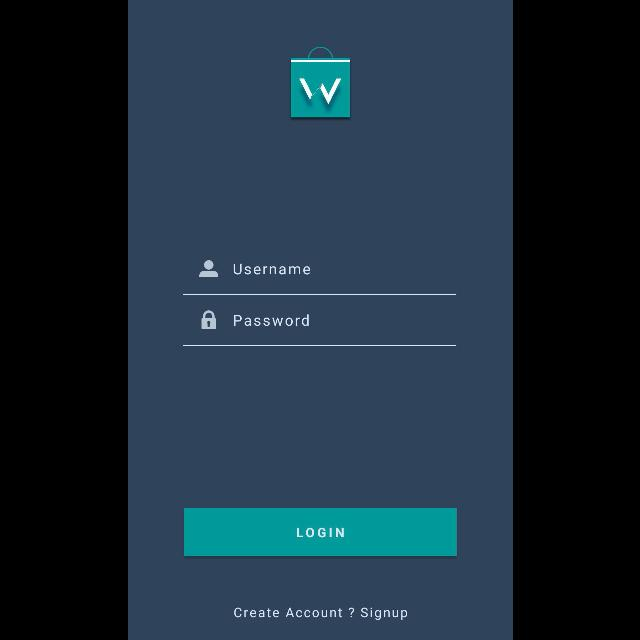icon: (198, 260, 218, 278), (200, 310, 216, 330)
image: (290, 46, 350, 120)
input: (182, 259, 456, 295), (182, 310, 456, 346)
text: (234, 608, 406, 620), (232, 264, 310, 276), (232, 314, 308, 326)
textbutton: (184, 508, 456, 556)
